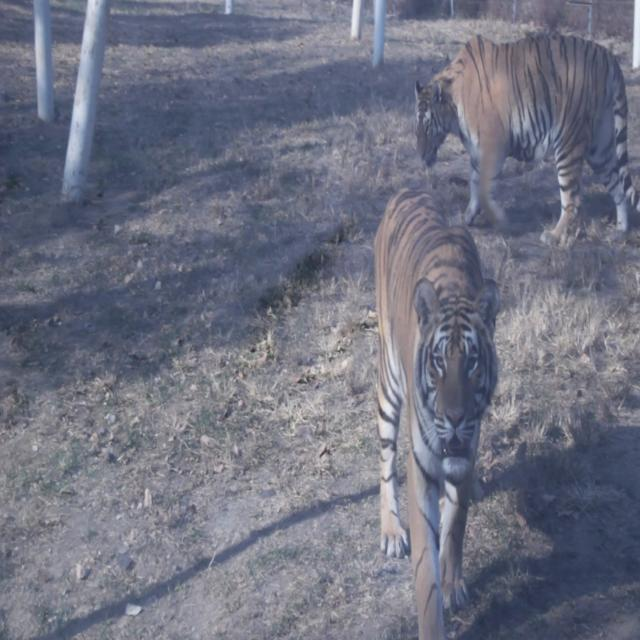Tiger: (360, 159, 500, 639), (401, 16, 637, 242)
